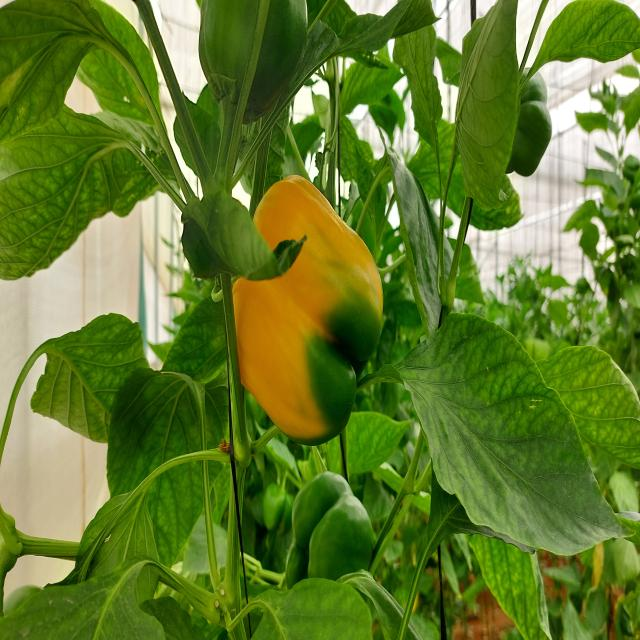Yellow-Ready-to-Harvest: (232, 171, 384, 443)
